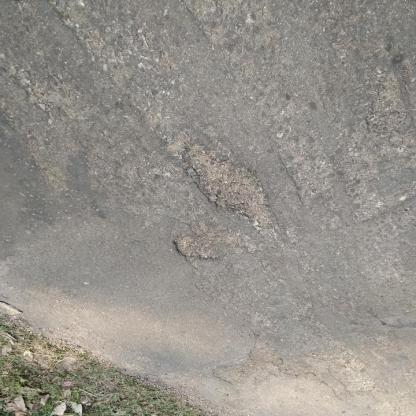pothole: (185, 146, 281, 234), (365, 73, 412, 135), (172, 234, 223, 265)
